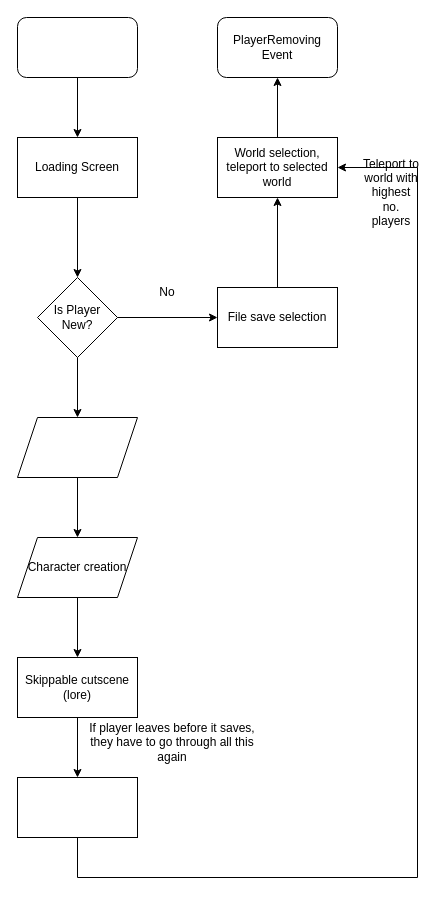
Image size: 443x903. Some labels were removed from this diagram. Here are the shapes that lost their labels. From the top down, the centre of each, then its label:
At pixel 77 47: "PlayerAdded Event".
At pixel 77 447: "Language Selection".
At pixel 77 807: "SAVE to Slot 1 Non-negotiable".
